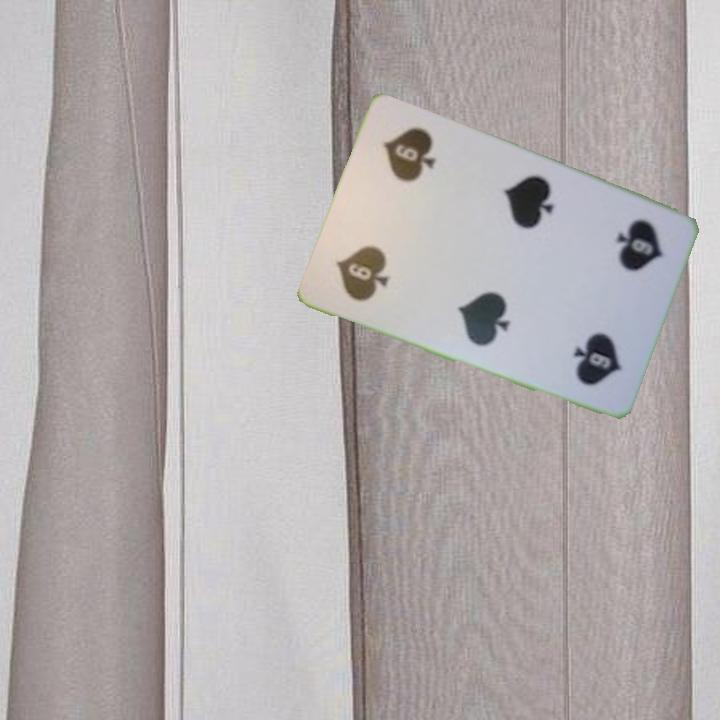s_6.png: (569, 194, 683, 316), (315, 199, 429, 321)
